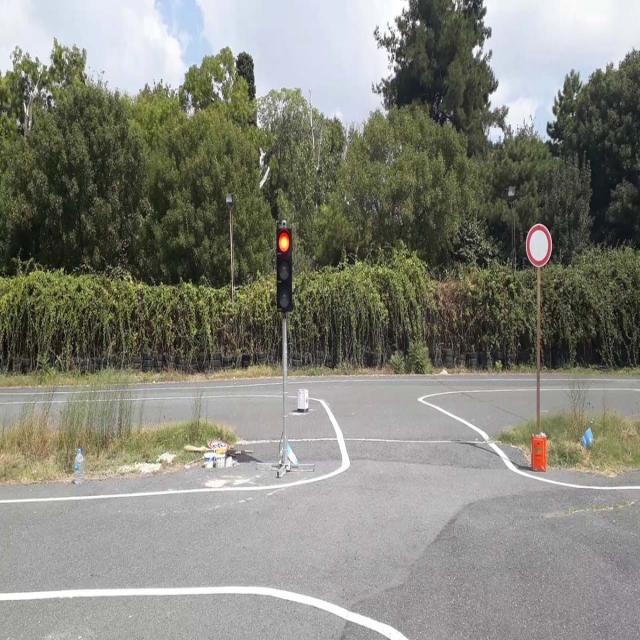kirmizi: (278, 228, 293, 310)
